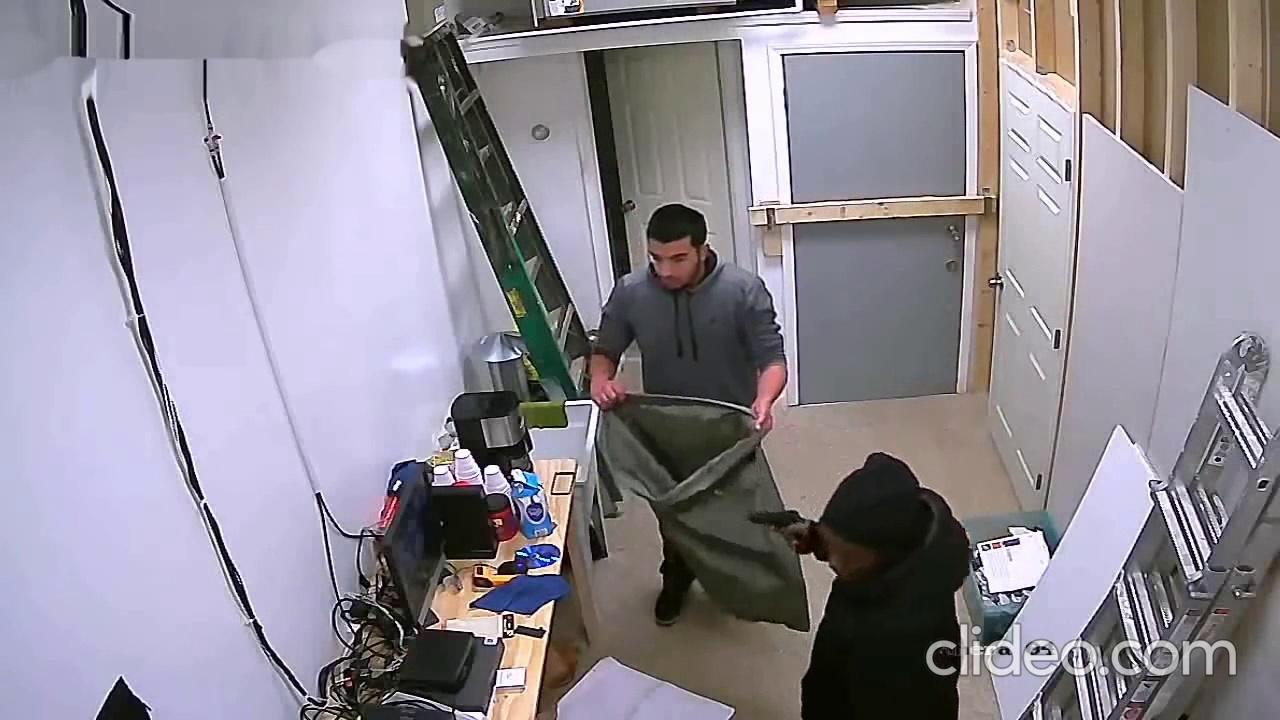person: (586, 202, 791, 631), (778, 448, 974, 720)
pistol: (747, 505, 814, 559)
